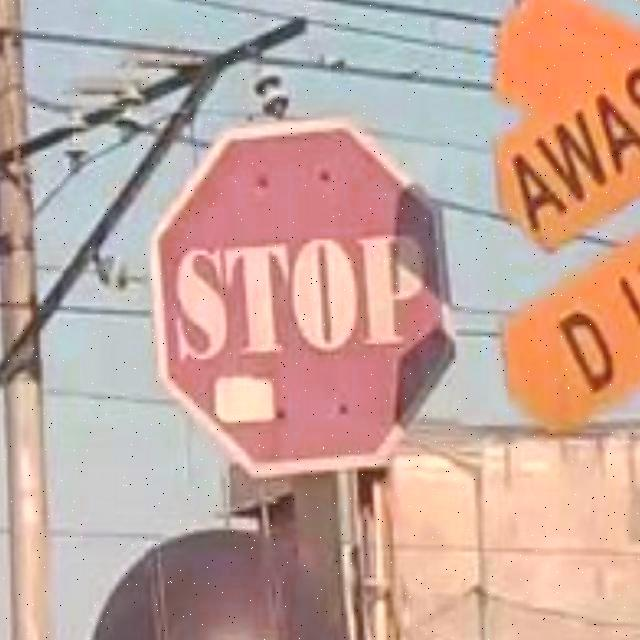Stop: (160, 136, 455, 476)
